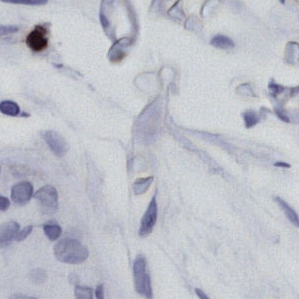Lymphocyte: (25, 26, 49, 53)
